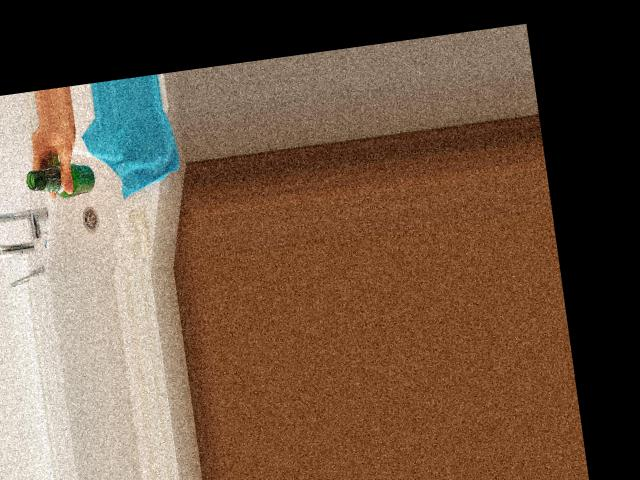beer: (25, 157, 97, 203)
